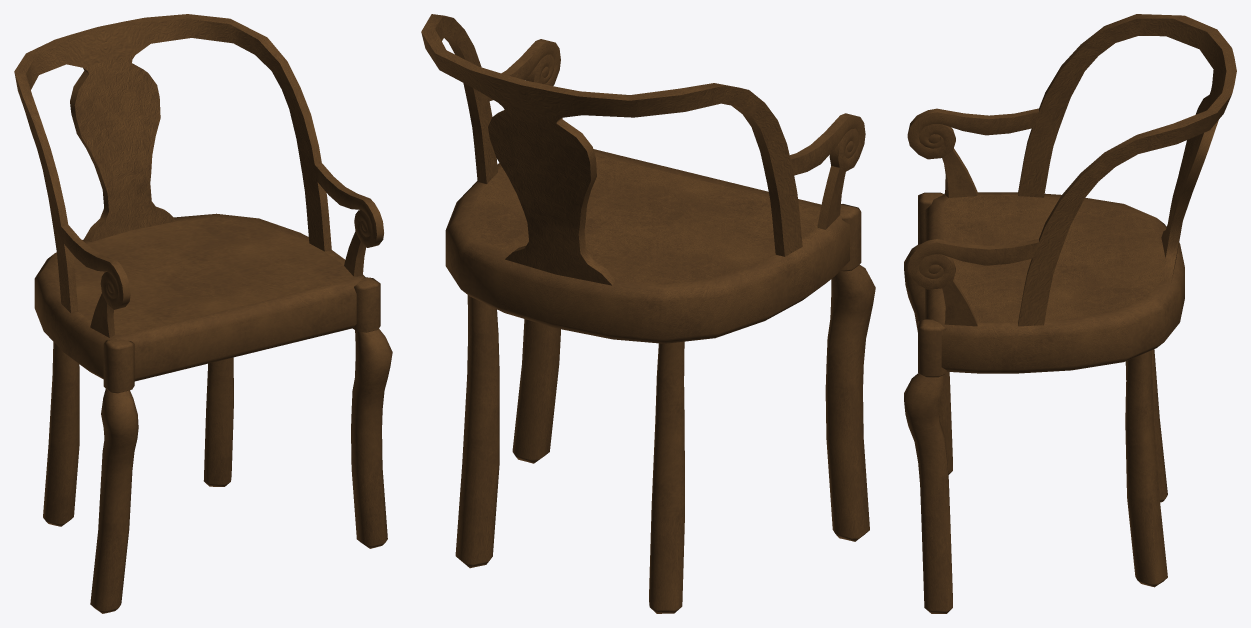
The model's file is HeistChair.fbx.
3 renders of one model, left to right at view 1: azimuth 30°, elevation 25°; view 2: azimuth 150°, elevation 25°; view 3: azimuth 270°, elevation 25°, orthographic. The views are drawn at different scales.
Visible parts, largest first — view 1: HeistChair; view 2: HeistChair; view 3: HeistChair.
Boxes of the visible parts, box(x1,y1,x2,y2) form: HeistChair: box(14, 14, 392, 613); HeistChair: box(421, 14, 875, 613); HeistChair: box(904, 14, 1236, 613).
Size of the model in its own units: 6.8 by 10 by 6.41.
1 material, 1 textured.
